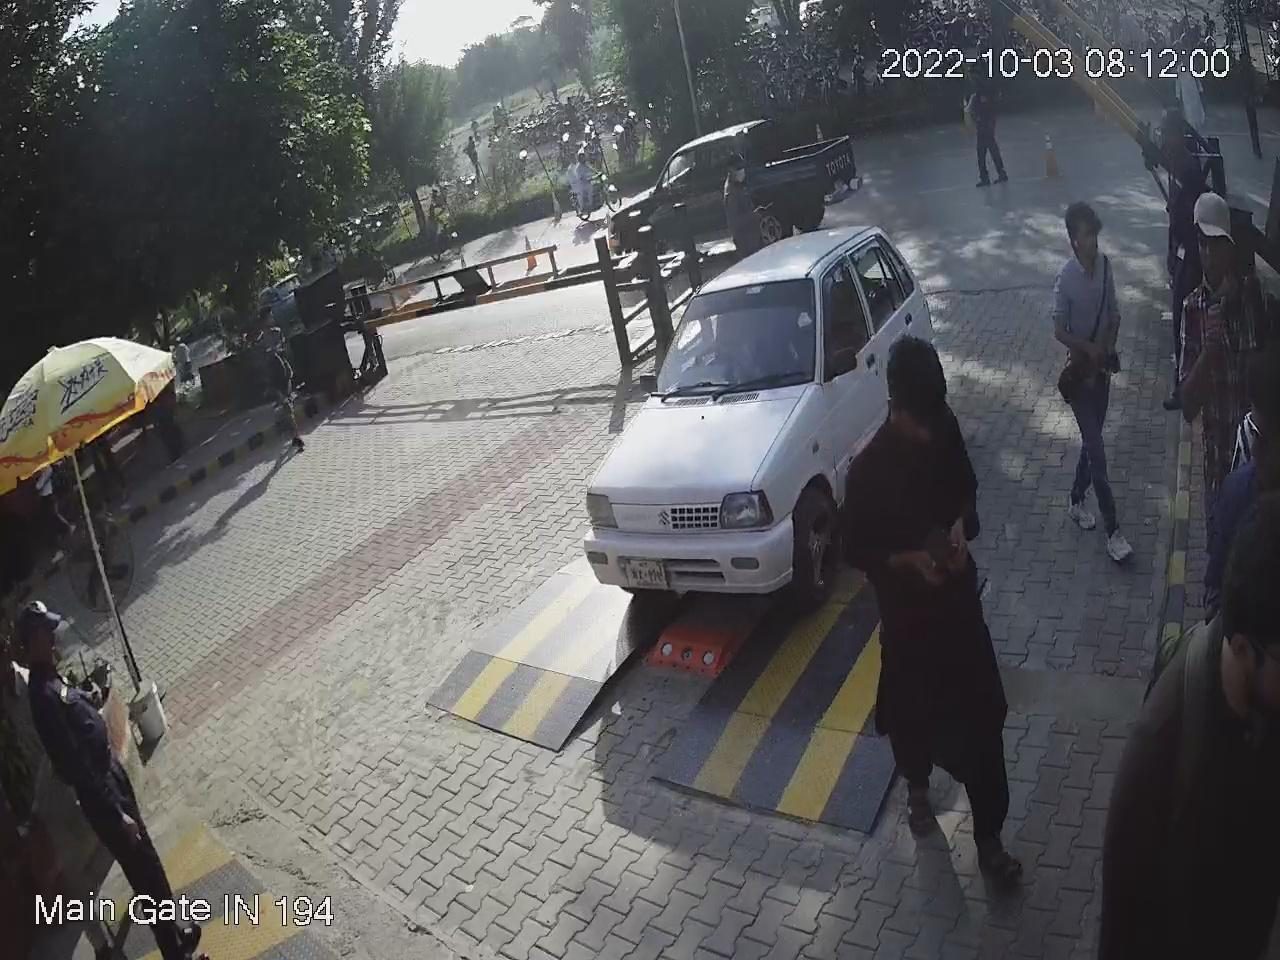windshield: (643, 272, 810, 410)
